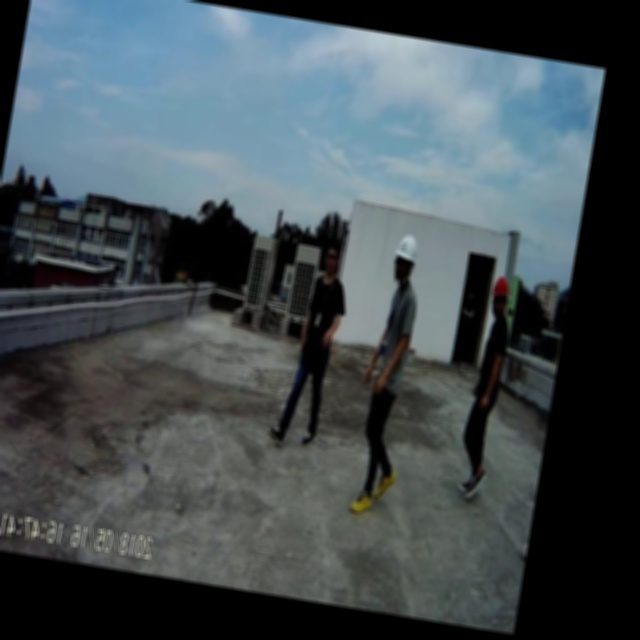Con_Casco: (390, 233, 420, 286)
Sin_Chaleco: (376, 284, 421, 386), (303, 271, 350, 361)
